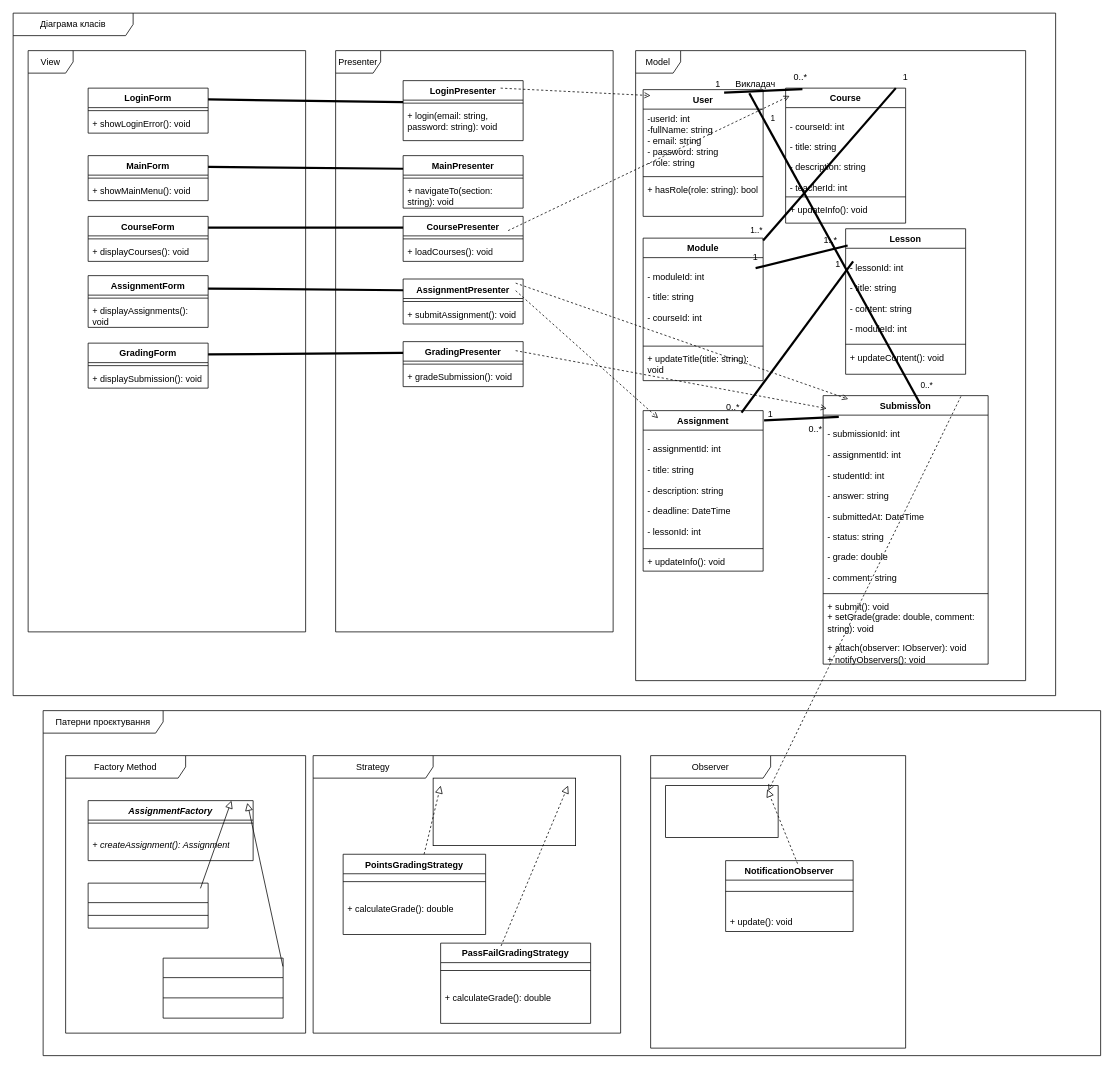
This 1114x1069 diagram has some shape labels left out. The shapes that lost their labels are listed below. From the top down, each one's centre as x and y in pixels, then its label:
At [504,811]: "«interface» IGradingStrategy + calculateGrade(): double".
At [721,811]: "«interface» IObserver + update(): void".
At [147,905]: "HomeworkFactory".
At [222,987]: "TestFactory".
